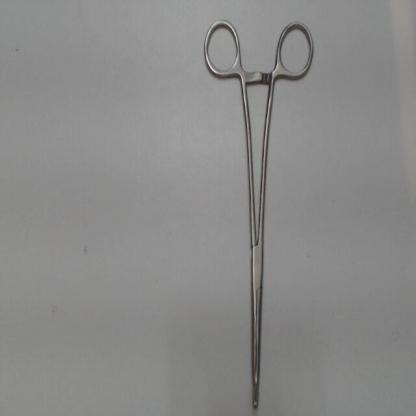Lahey Forceps: (196, 11, 317, 413)
